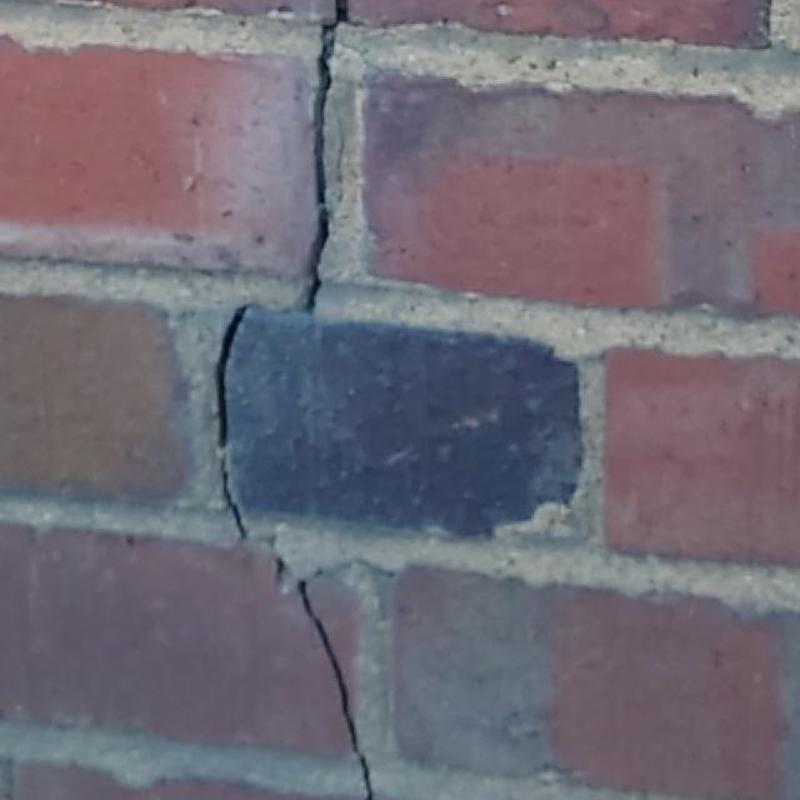crack: (297, 578, 373, 799), (305, 25, 335, 312), (216, 305, 248, 541), (334, 104, 345, 201), (336, 0, 347, 23), (277, 556, 288, 578)
